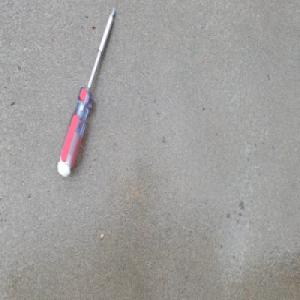Screwdriver: (55, 6, 117, 181)
